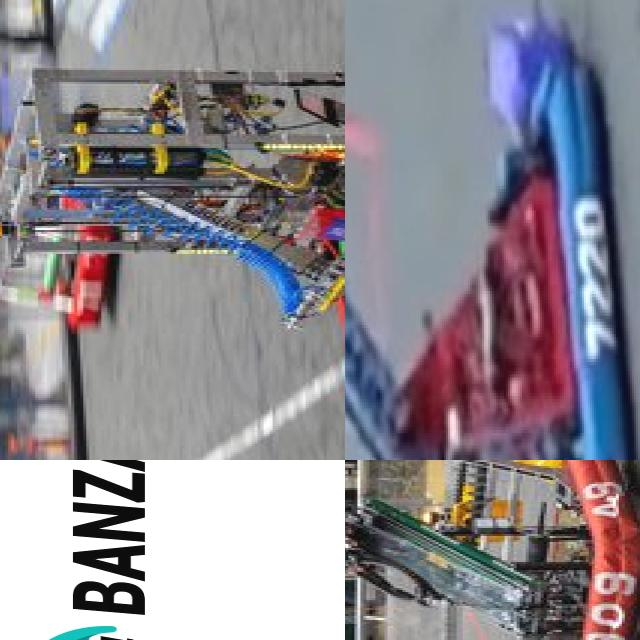FRC-Robots: (0, 9, 345, 419), (345, 5, 638, 460), (345, 460, 640, 640), (0, 167, 126, 358)
